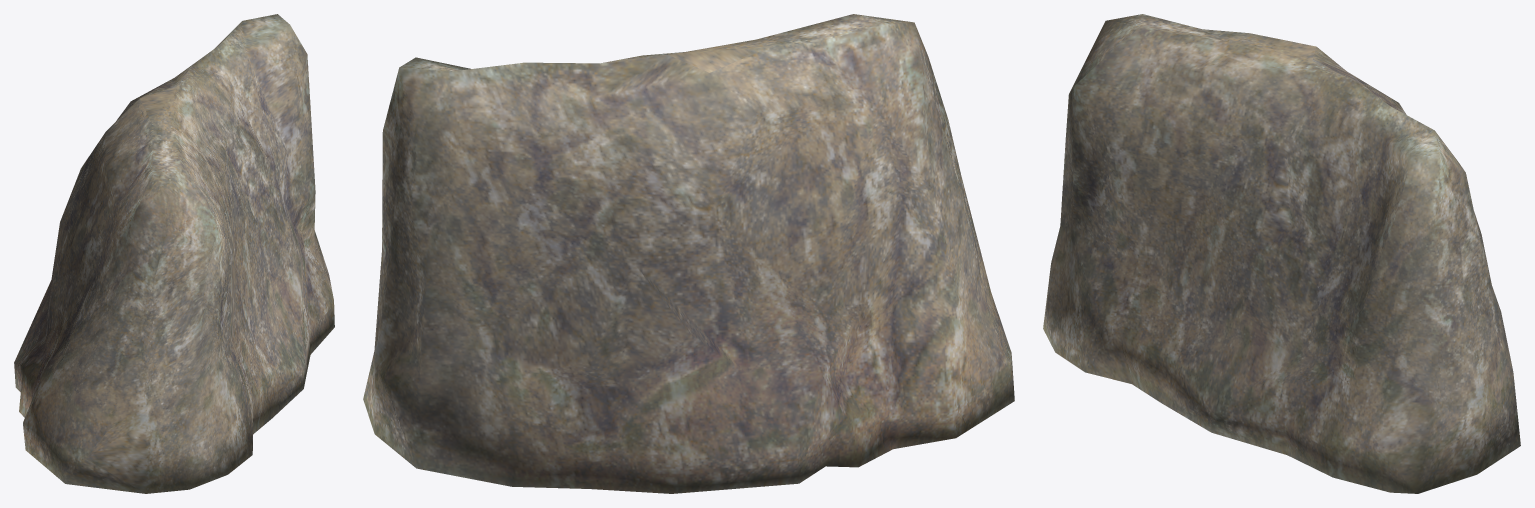
File: land_cliff02c.fbx
3 renders of one model, left to right at view 1: azimuth 30°, elevation 25°; view 2: azimuth 150°, elevation 25°; view 3: azimuth 270°, elevation 25°, orthographic. The views are drawn at different scales.
Visible parts, largest first — view 1: land_cliff02c; view 2: land_cliff02c; view 3: land_cliff02c.
Boxes of the visible parts, box(x1,y1,x2,y2) form: land_cliff02c: box(14, 14, 334, 493); land_cliff02c: box(363, 14, 1014, 493); land_cliff02c: box(1043, 14, 1520, 493).
Size of the model in its own units: 14.23 by 10.09 by 13.38.
